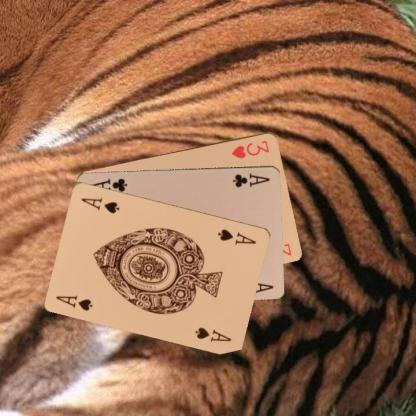3h: (229, 138, 271, 160)
Ac: (230, 171, 271, 188)
As: (54, 292, 94, 312), (216, 226, 258, 245)
